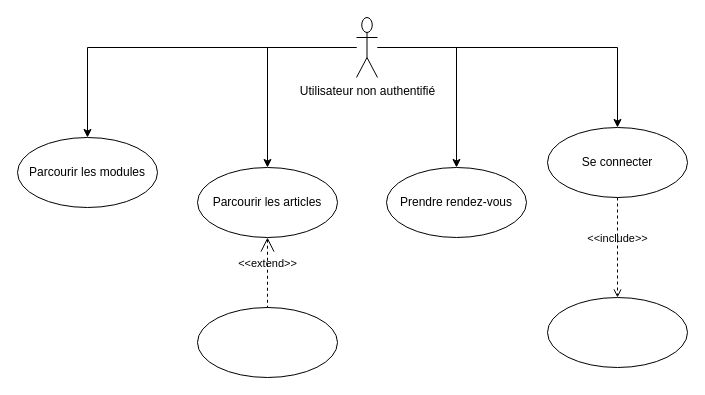
The diagram is 705 pixels wide and 395 high, and some of its shapes have lost their labels. The centre of each missing label's shape, as x and y in pixels:
"Ecrire un commentaire" goes at [267,342].
"S'enregistrer" goes at [617,332].
